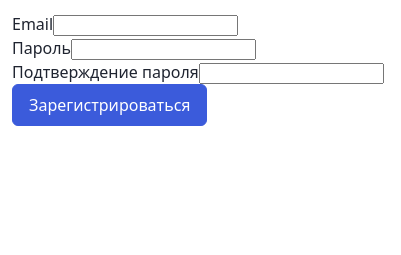
it: SignupForm › показывает ошибки обязательных полей при пустом сабмите
The image size is (401, 255).
Click the button "Зарегистрироваться": (110, 105) 12,84 -> 207,126
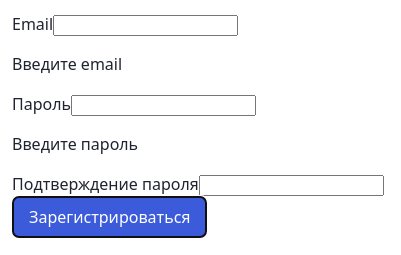
Result: the text "Введите email" is shown at 12,53 -> 122,75
Result: the text "Введите пароль" is shown at 12,133 -> 138,155
